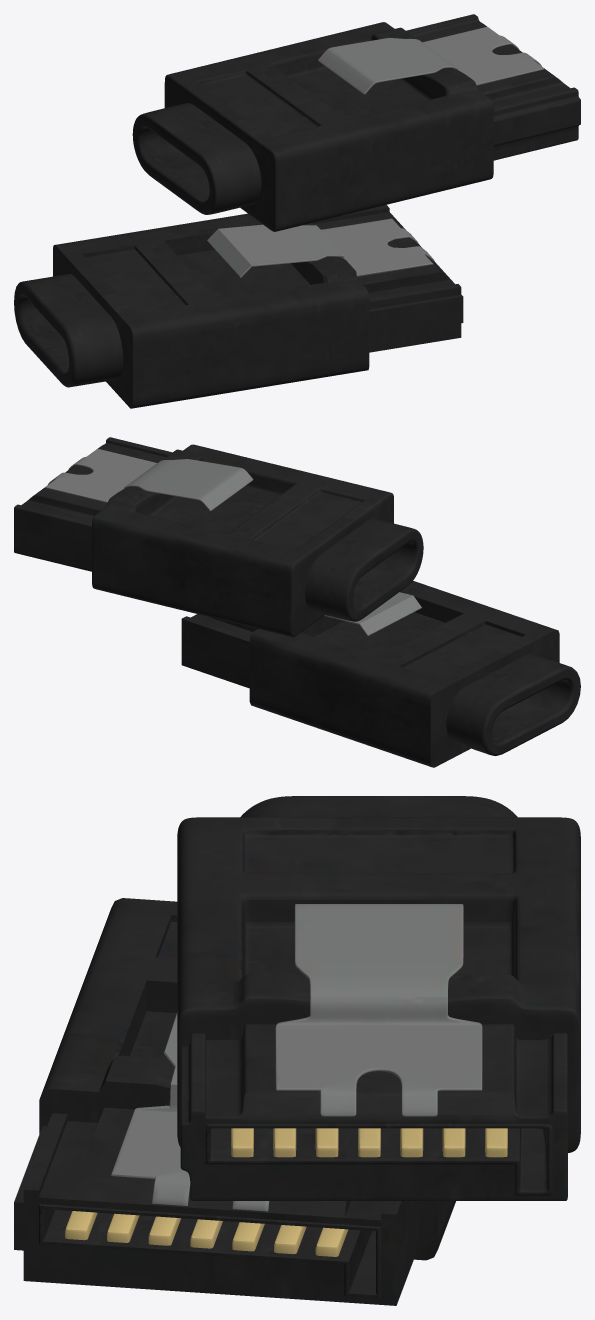
Rendered from sata_cable.opt.glb.
The picture shows the model from 3 angles, top to bottom: view 1: azimuth 30°, elevation 25°; view 2: azimuth 150°, elevation 25°; view 3: azimuth 270°, elevation 25°; orthographic projection. The views are drawn at different scales.
Visible parts, largest first — view 1: Pins_Brass_Smudged_0; view 2: Pins_Brass_Smudged_0; view 3: Pins_Brass_Smudged_0.
Boxes of the visible parts, <box> form: Pins_Brass_Smudged_0: <box>14,14,580,408</box>; Pins_Brass_Smudged_0: <box>14,437,580,767</box>; Pins_Brass_Smudged_0: <box>14,796,580,1305</box>.
Size of the model in its own units: 0.0349 by 0.0144 by 0.0186.
1 material, 1 textured.
